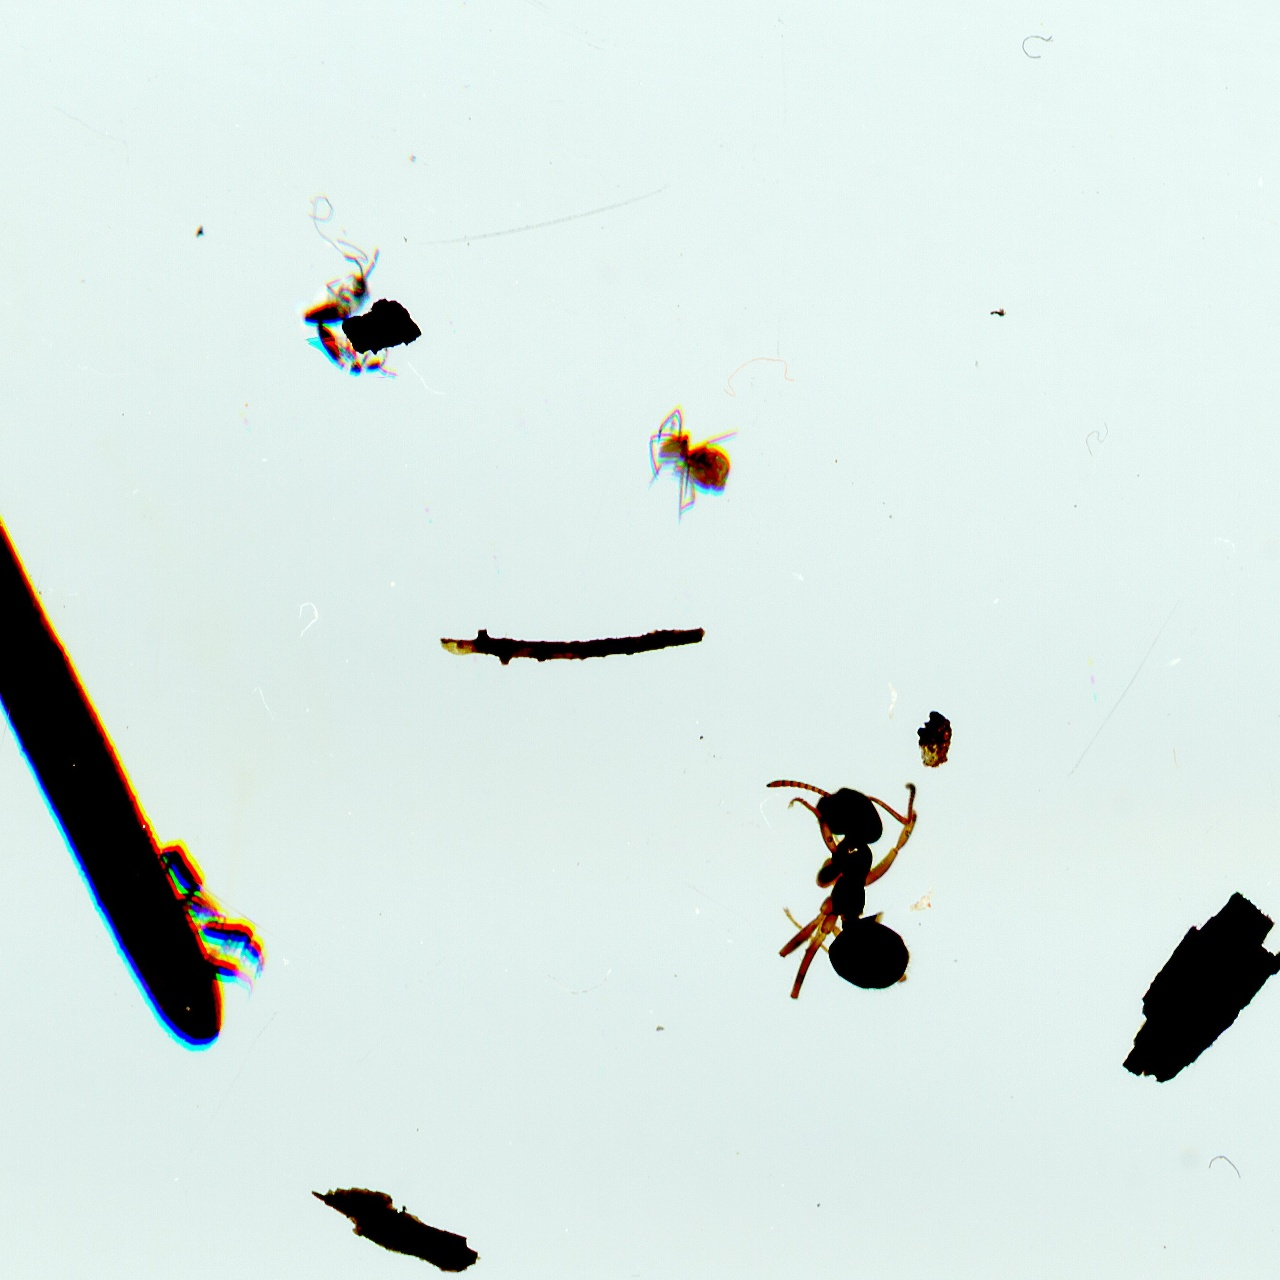arthropod: (765, 772, 925, 1008), (641, 402, 743, 529), (300, 245, 386, 334), (143, 829, 219, 921), (304, 319, 402, 383), (200, 912, 271, 986), (188, 942, 265, 1007), (178, 892, 225, 921)
